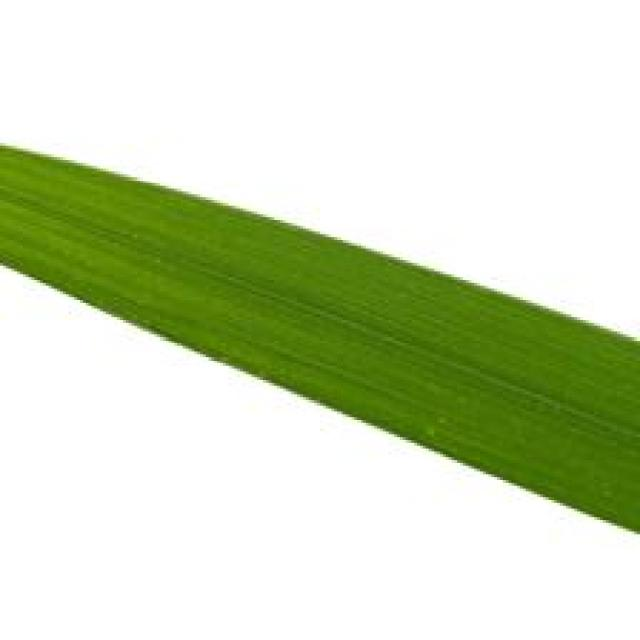Rice___Healthy_Rice_Plant: (0, 146, 637, 535)
